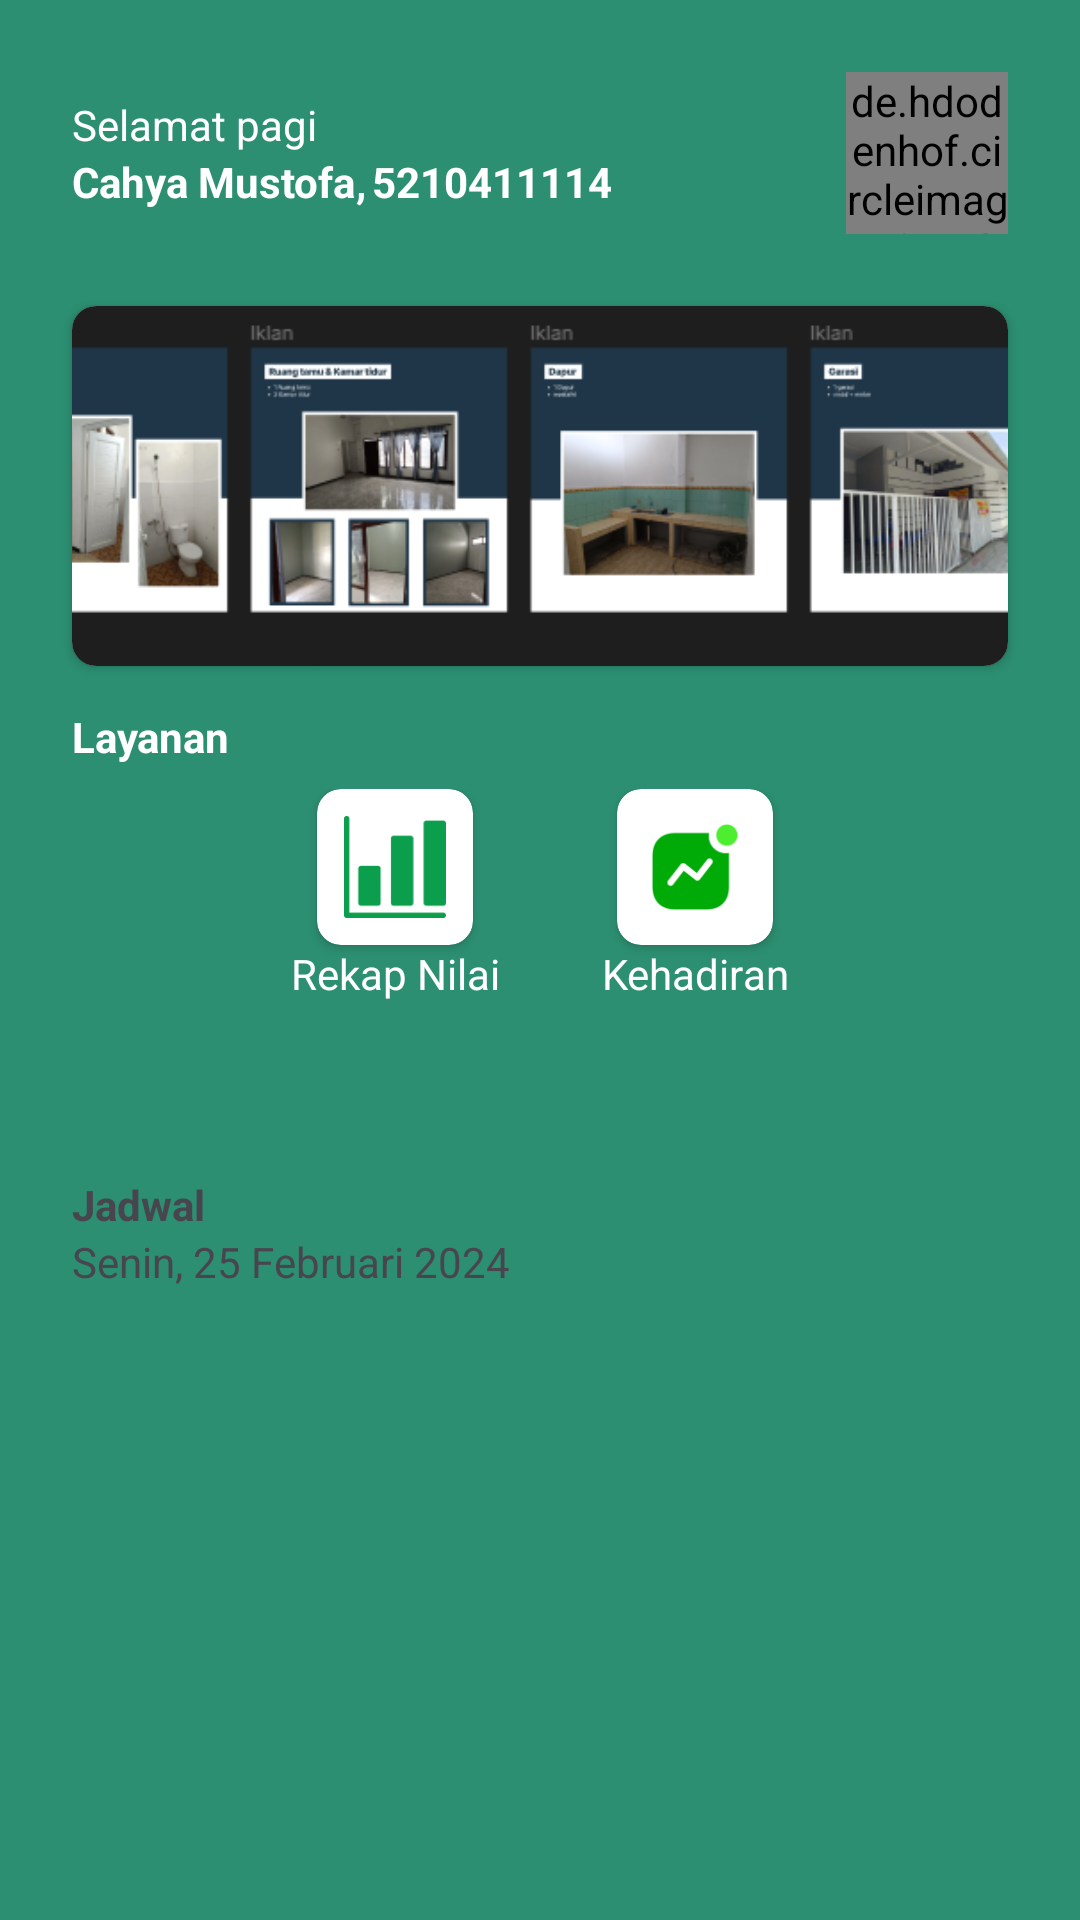

Icon bounding boxes for this 1080px x 1920px phone screenshot, format (x1, y1, x2, y2):
activity: (652, 824, 738, 910)
bar chart: (344, 816, 446, 918)
